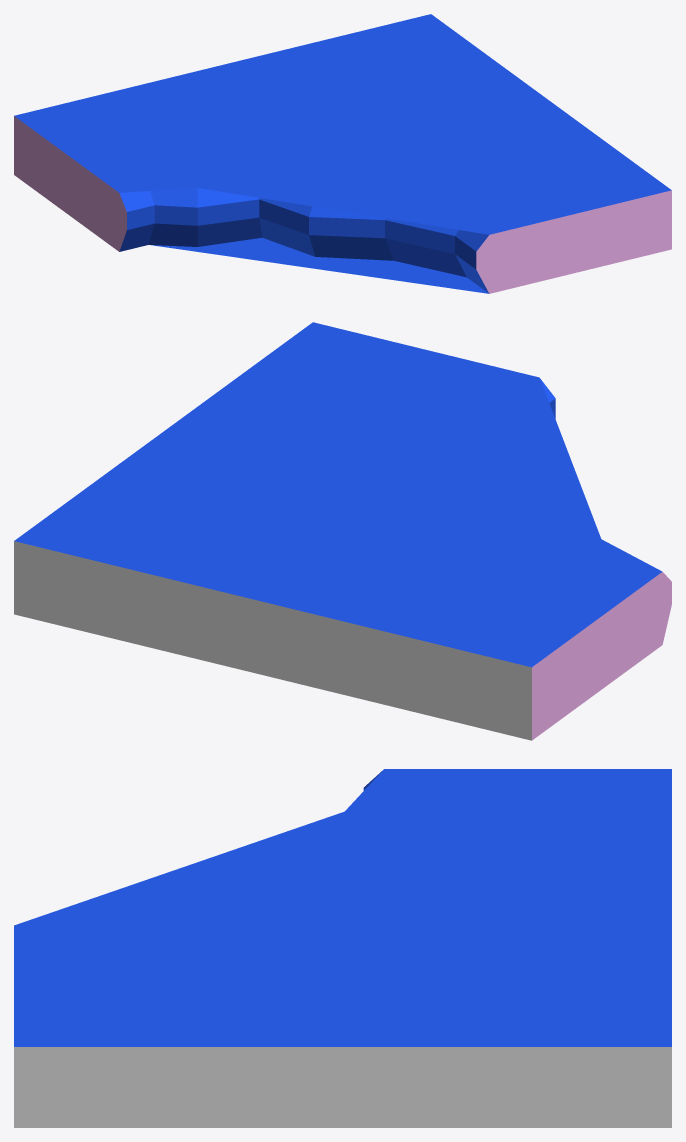
The model's file is Iceberg_Curve_Inner_3x3_1.glb.
The picture shows the model from 3 angles, top to bottom: view 1: azimuth 30°, elevation 25°; view 2: azimuth 150°, elevation 25°; view 3: azimuth 270°, elevation 25°; orthographic projection. The views are drawn at different scales.
Parts seen in each view (by area): view 1: Iceberg_Curve_Inner_3x3_1; view 2: Iceberg_Curve_Inner_3x3_1; view 3: Iceberg_Curve_Inner_3x3_1.
Boxes of the visible parts, x1,y1,x2,y2 form: Iceberg_Curve_Inner_3x3_1: (14, 14, 671, 293); Iceberg_Curve_Inner_3x3_1: (14, 322, 671, 740); Iceberg_Curve_Inner_3x3_1: (14, 769, 671, 1127).
Size of the model in its own units: 300 by 40.63 by 300.
